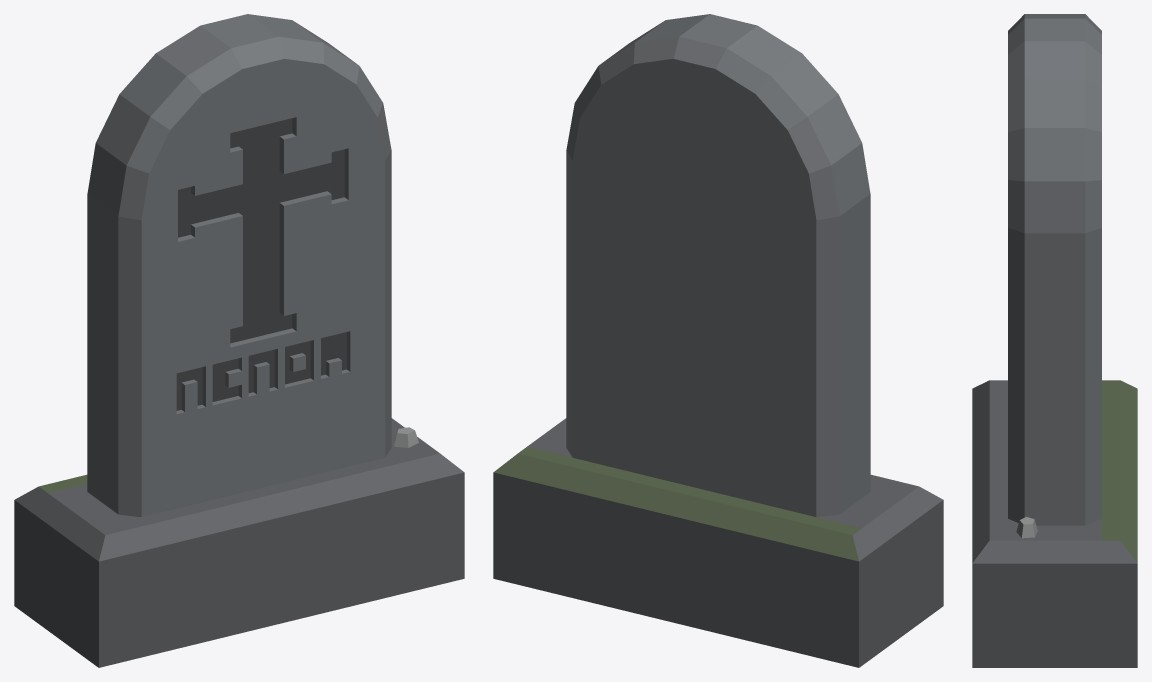
File: carved-grave-stele-a1359c.glb
The picture shows the model from 3 angles, left to right: view 1: azimuth 30°, elevation 25°; view 2: azimuth 150°, elevation 25°; view 3: azimuth 270°, elevation 25°; orthographic projection.
Parts seen in each view (by area): view 1: stele; view 2: stele; view 3: stele.
Boxes of the visible parts, x1,y1,x2,y2 form: stele: [14, 14, 464, 667]; stele: [493, 14, 943, 667]; stele: [972, 14, 1137, 667].
Bounding box in the file's own units: 0.75 × 1.1 × 0.3.
